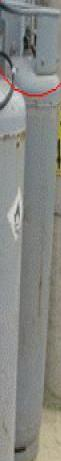cylinder: (1, 1, 61, 461)
